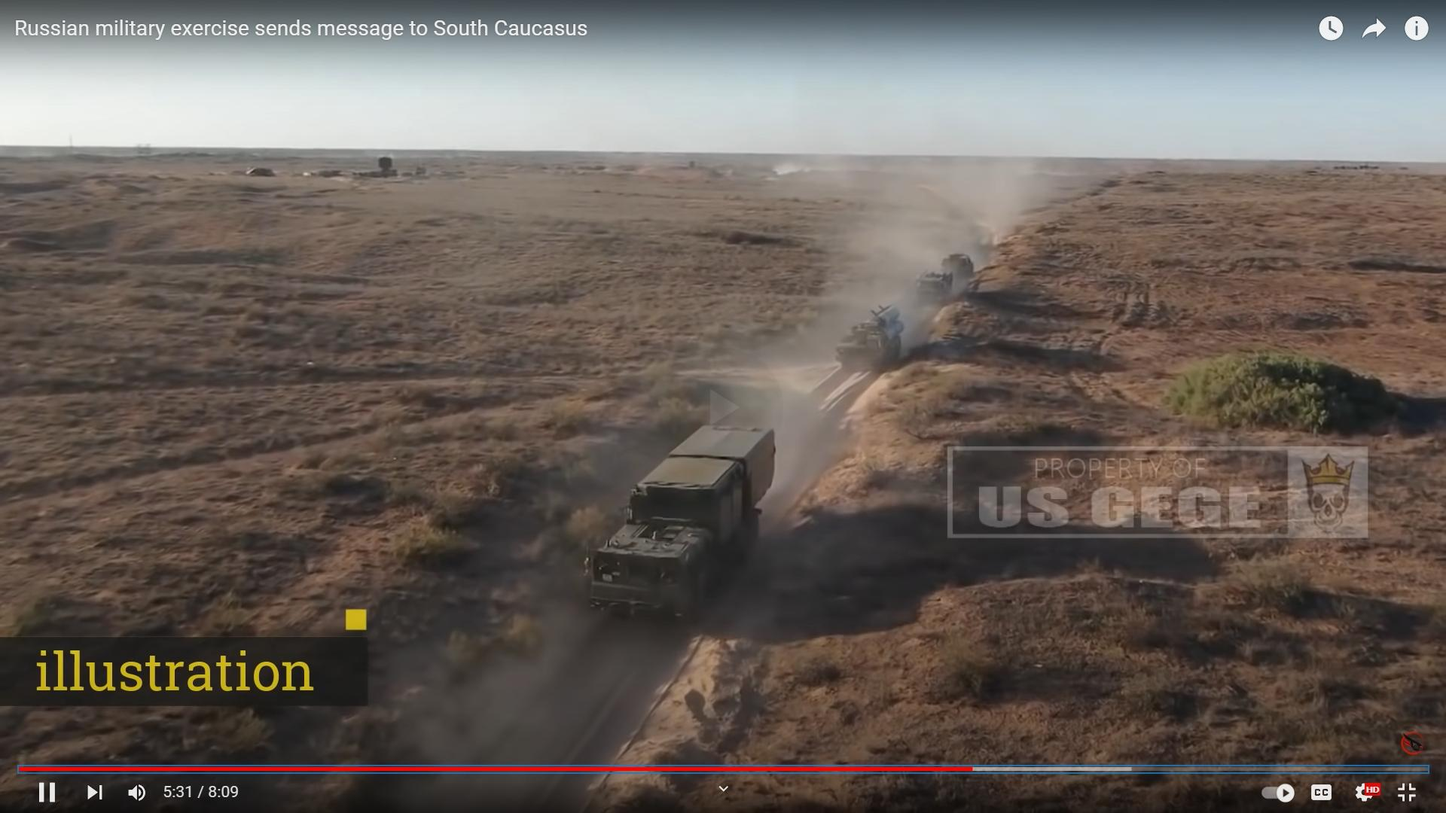truck: (578, 416, 795, 635)
